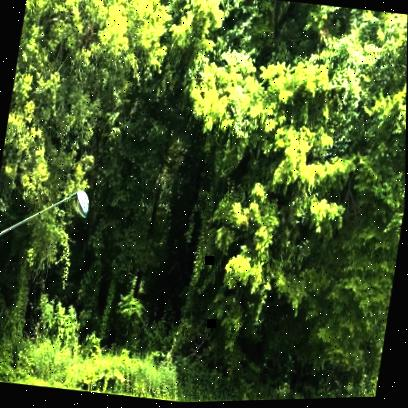GolfBall: (63, 181, 96, 221)
